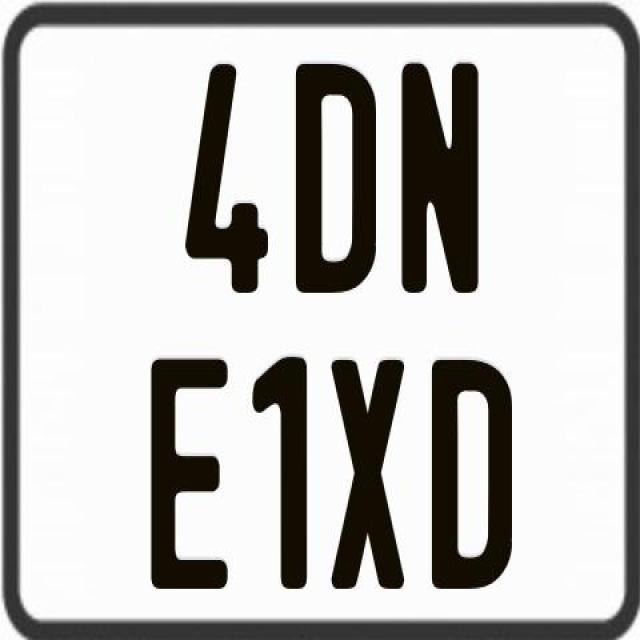1: (252, 356, 307, 588)
4: (182, 63, 274, 294)
D: (428, 358, 515, 592), (294, 62, 374, 293)
E: (150, 354, 228, 590)
N: (401, 63, 483, 294)
X: (328, 357, 404, 586)
